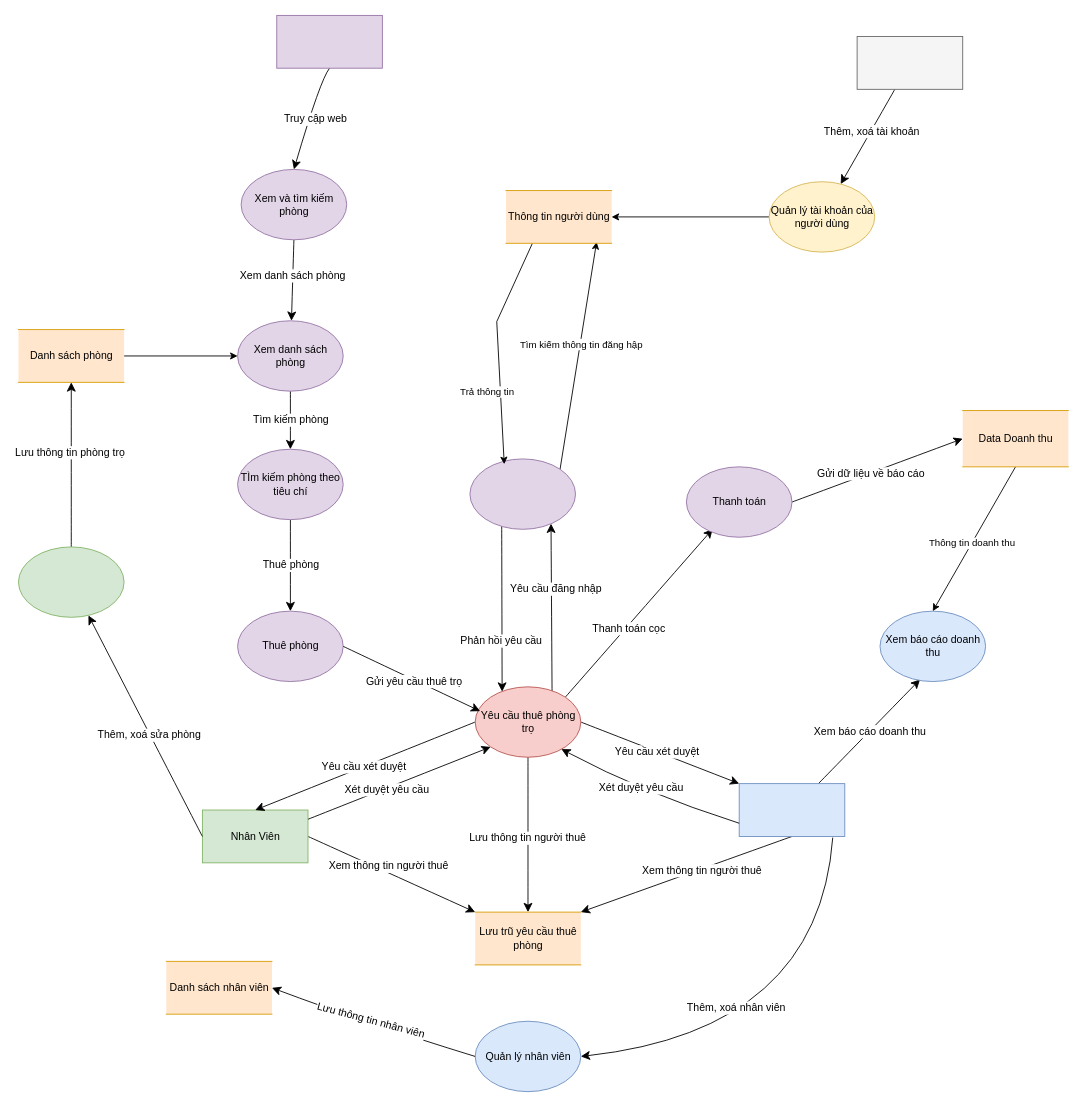
Some shapes in this 1084 by 1107 pixel diagram are drawn without their labels. The centre of each missing label's shape, as x and y in pixels:
"Admin" goes at [909,62].
"Chủ trọ" goes at [791,809].
"Người thuê trọ" goes at [329,41].
"Quản lý phòng" goes at [71,581].
"Đăng nhập" goes at [522,493].
